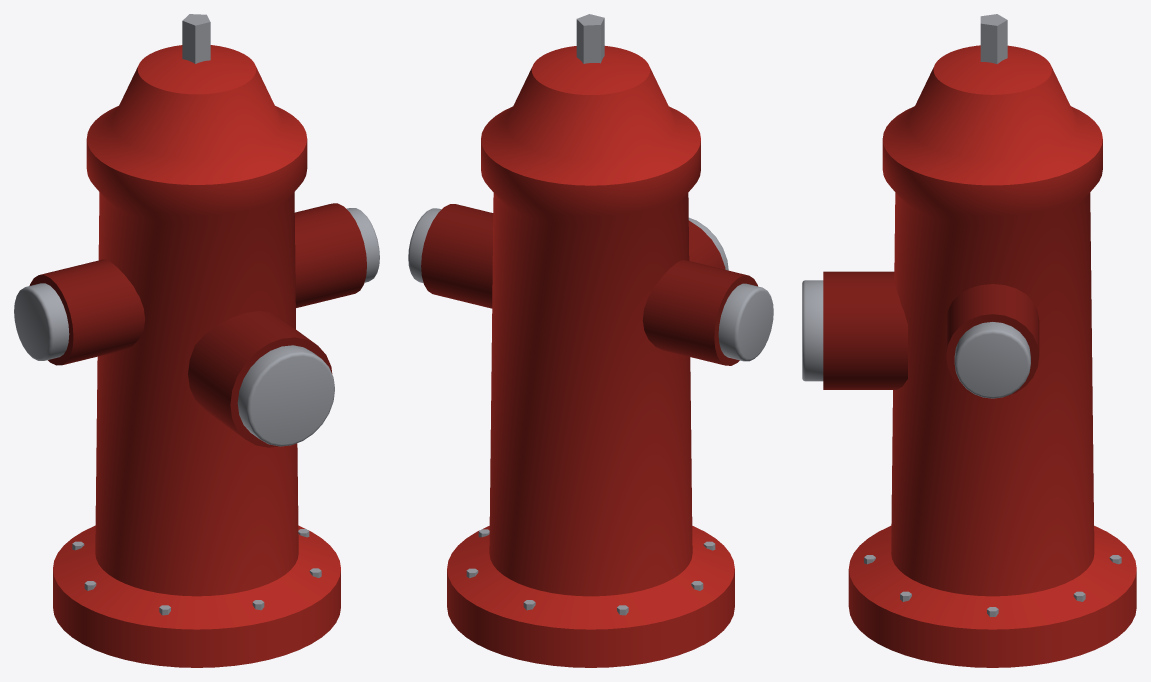
The model's file is gen_fire_hydrant.unreal.fbx.
3 views of the same model, side by side, from view 1: azimuth 30°, elevation 25°; view 2: azimuth 150°, elevation 25°; view 3: azimuth 270°, elevation 25° (orthographic).
Parts seen in each view (by area): view 1: gen_fire_hydrant; view 2: gen_fire_hydrant; view 3: gen_fire_hydrant.
Boxes of the visible parts, x1=… form: gen_fire_hydrant: x1=14, y1=14, x2=379, y2=667; gen_fire_hydrant: x1=408, y1=14, x2=773, y2=667; gen_fire_hydrant: x1=802, y1=14, x2=1136, y2=667.
Size of what is drawn, in the model's own units: 0.45 by 0.765 by 0.395.
Materials: 1 (1 with a texture image).
